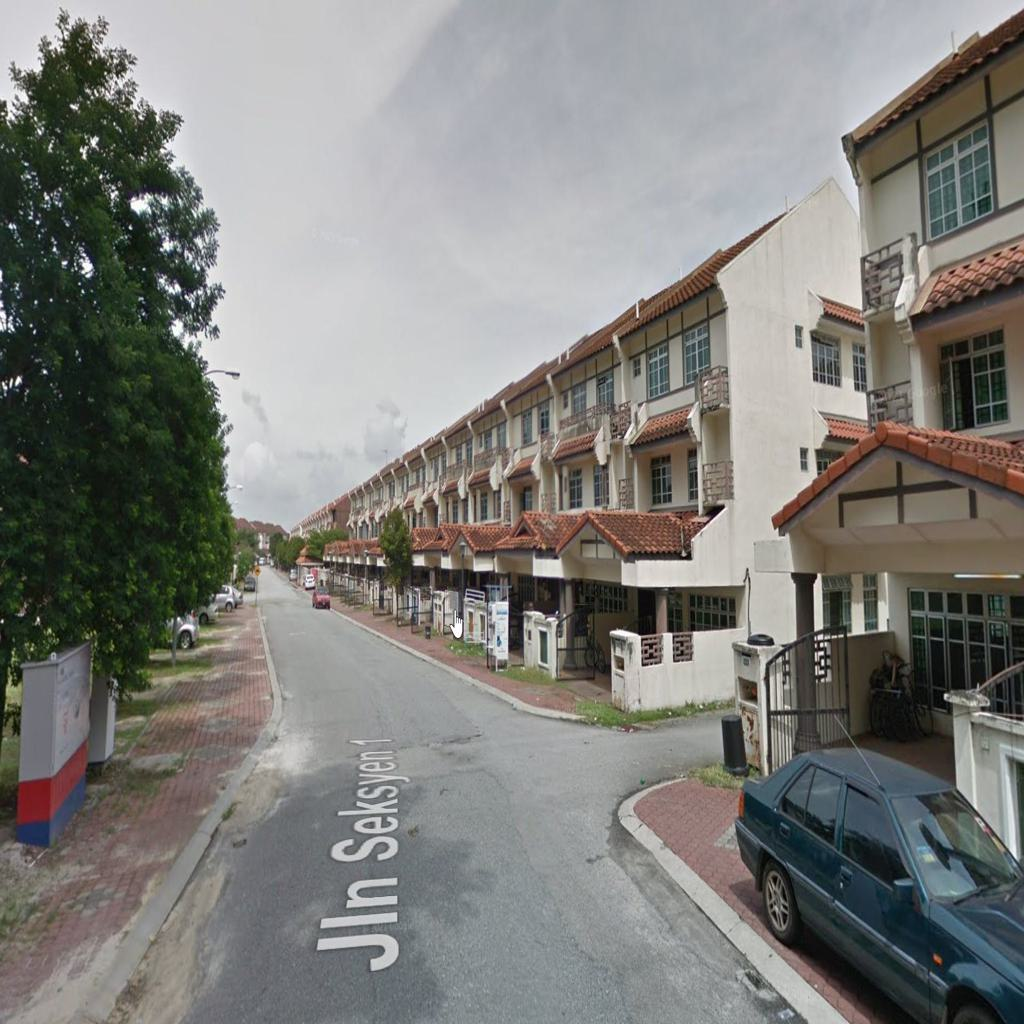Junction: (499, 676, 730, 808)
